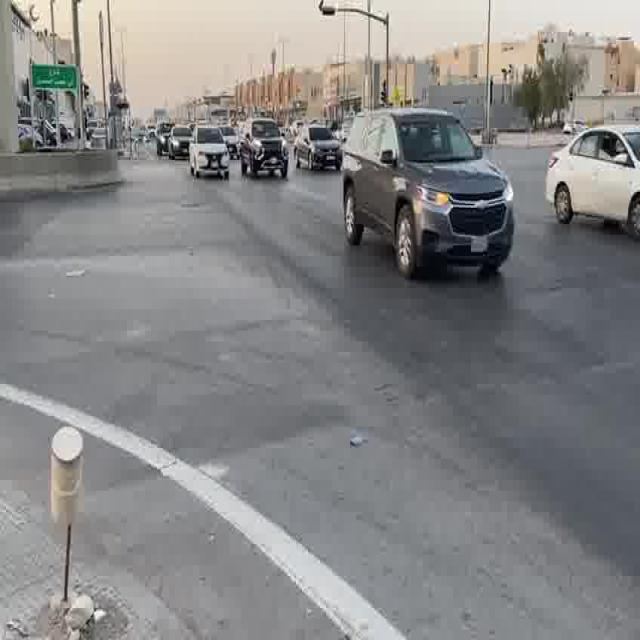bus: (342, 105, 517, 279), (545, 125, 640, 233), (242, 121, 287, 180), (297, 124, 341, 173), (190, 131, 231, 181), (204, 125, 240, 159), (170, 127, 194, 160), (219, 128, 242, 157)
car: (179, 209, 640, 640), (342, 105, 517, 279), (545, 125, 640, 233), (242, 121, 287, 180), (297, 124, 341, 173), (190, 131, 231, 181), (204, 125, 240, 159), (170, 127, 194, 160), (219, 128, 242, 157)
lanes: (179, 209, 640, 640), (226, 209, 639, 634)
lanes2: (226, 209, 639, 634), (260, 205, 640, 474)
lanes3: (260, 205, 640, 474), (286, 201, 640, 404)
lanes4: (286, 201, 640, 404), (327, 192, 640, 313)
lanes5: (327, 192, 640, 313)
motorbike: (154, 108, 173, 138)
truck: (154, 108, 173, 138)
